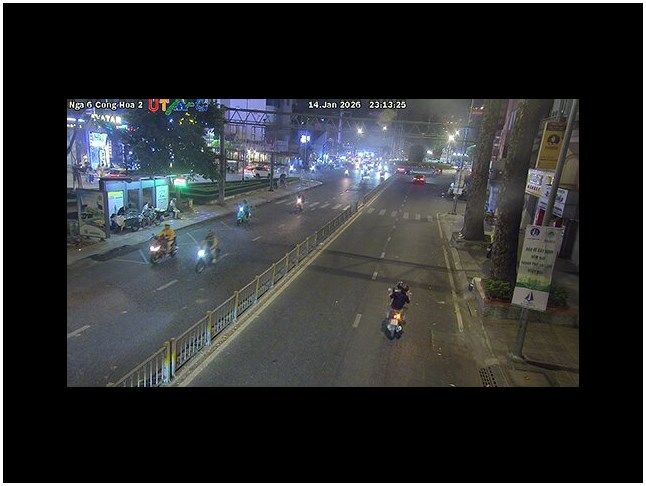motorbike: (148, 224, 178, 265), (383, 314, 404, 340)
